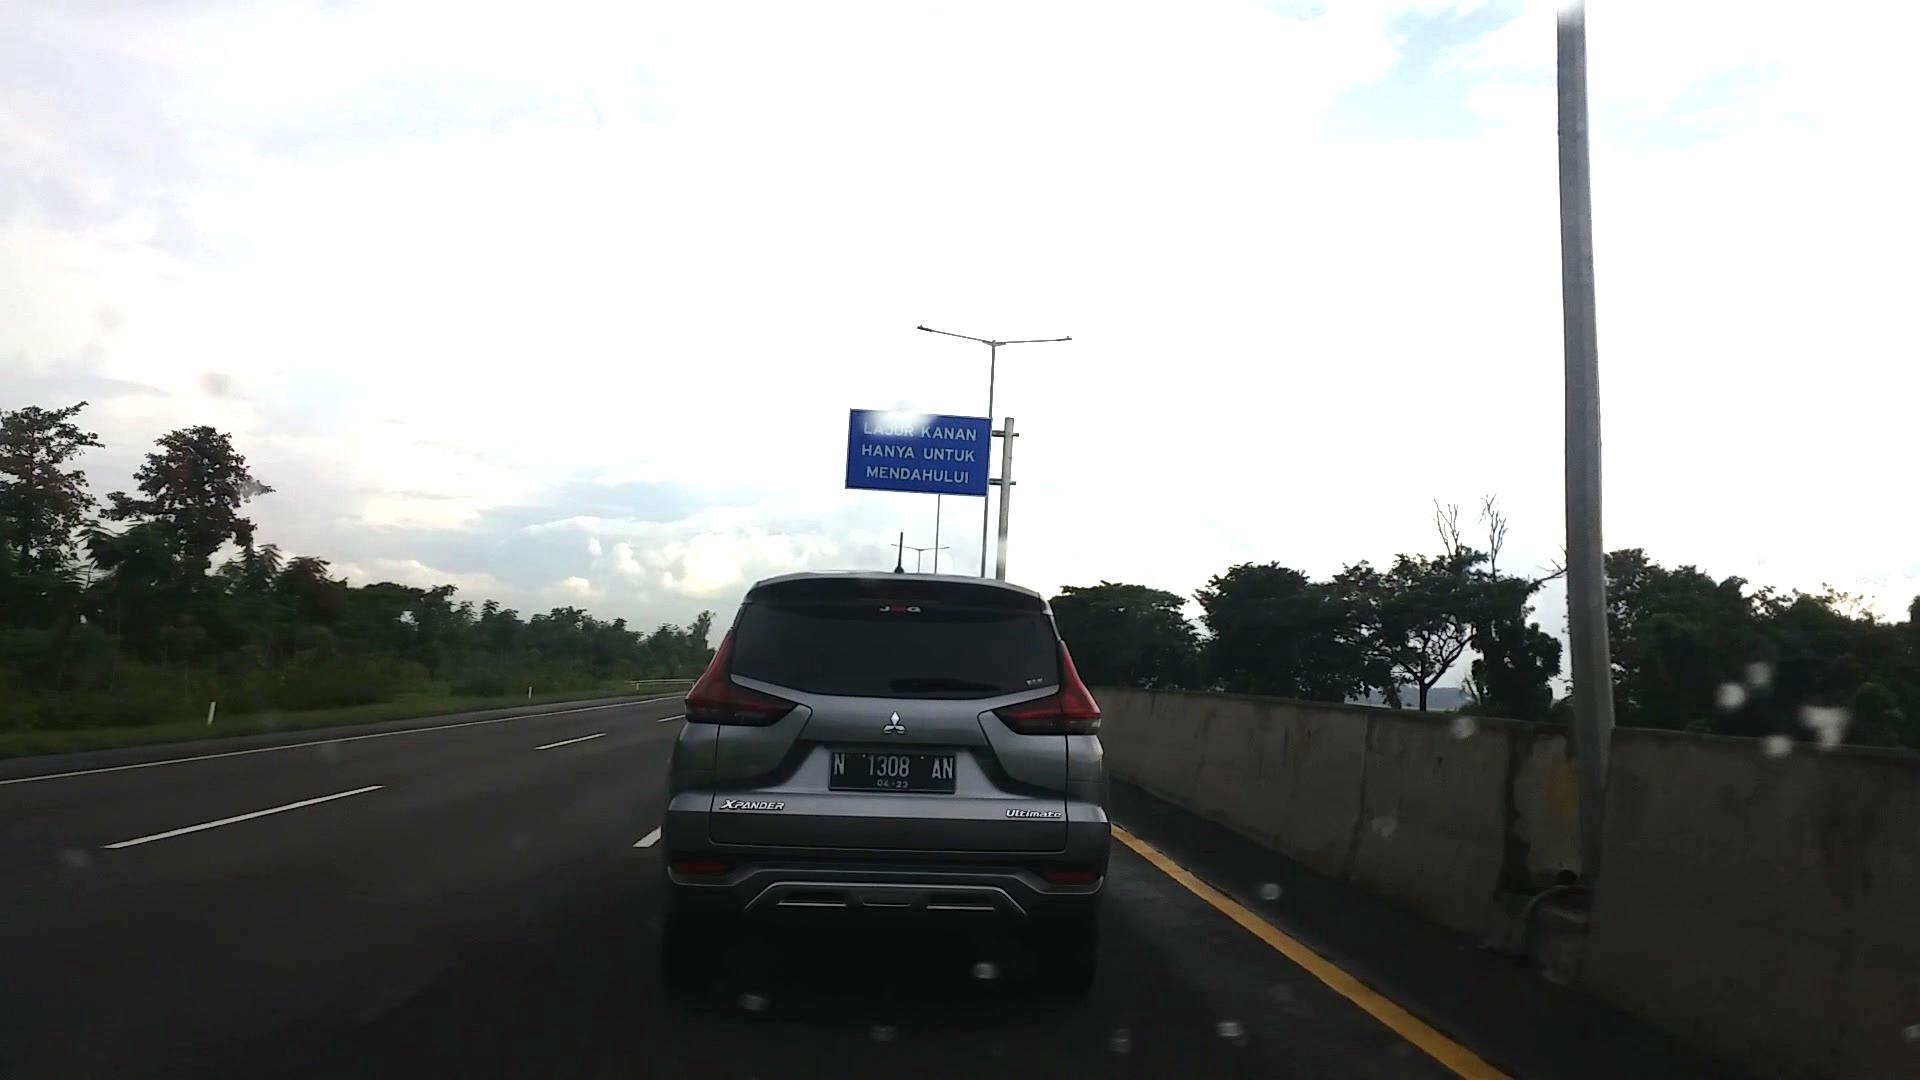plate_positive: (829, 752, 957, 794)
